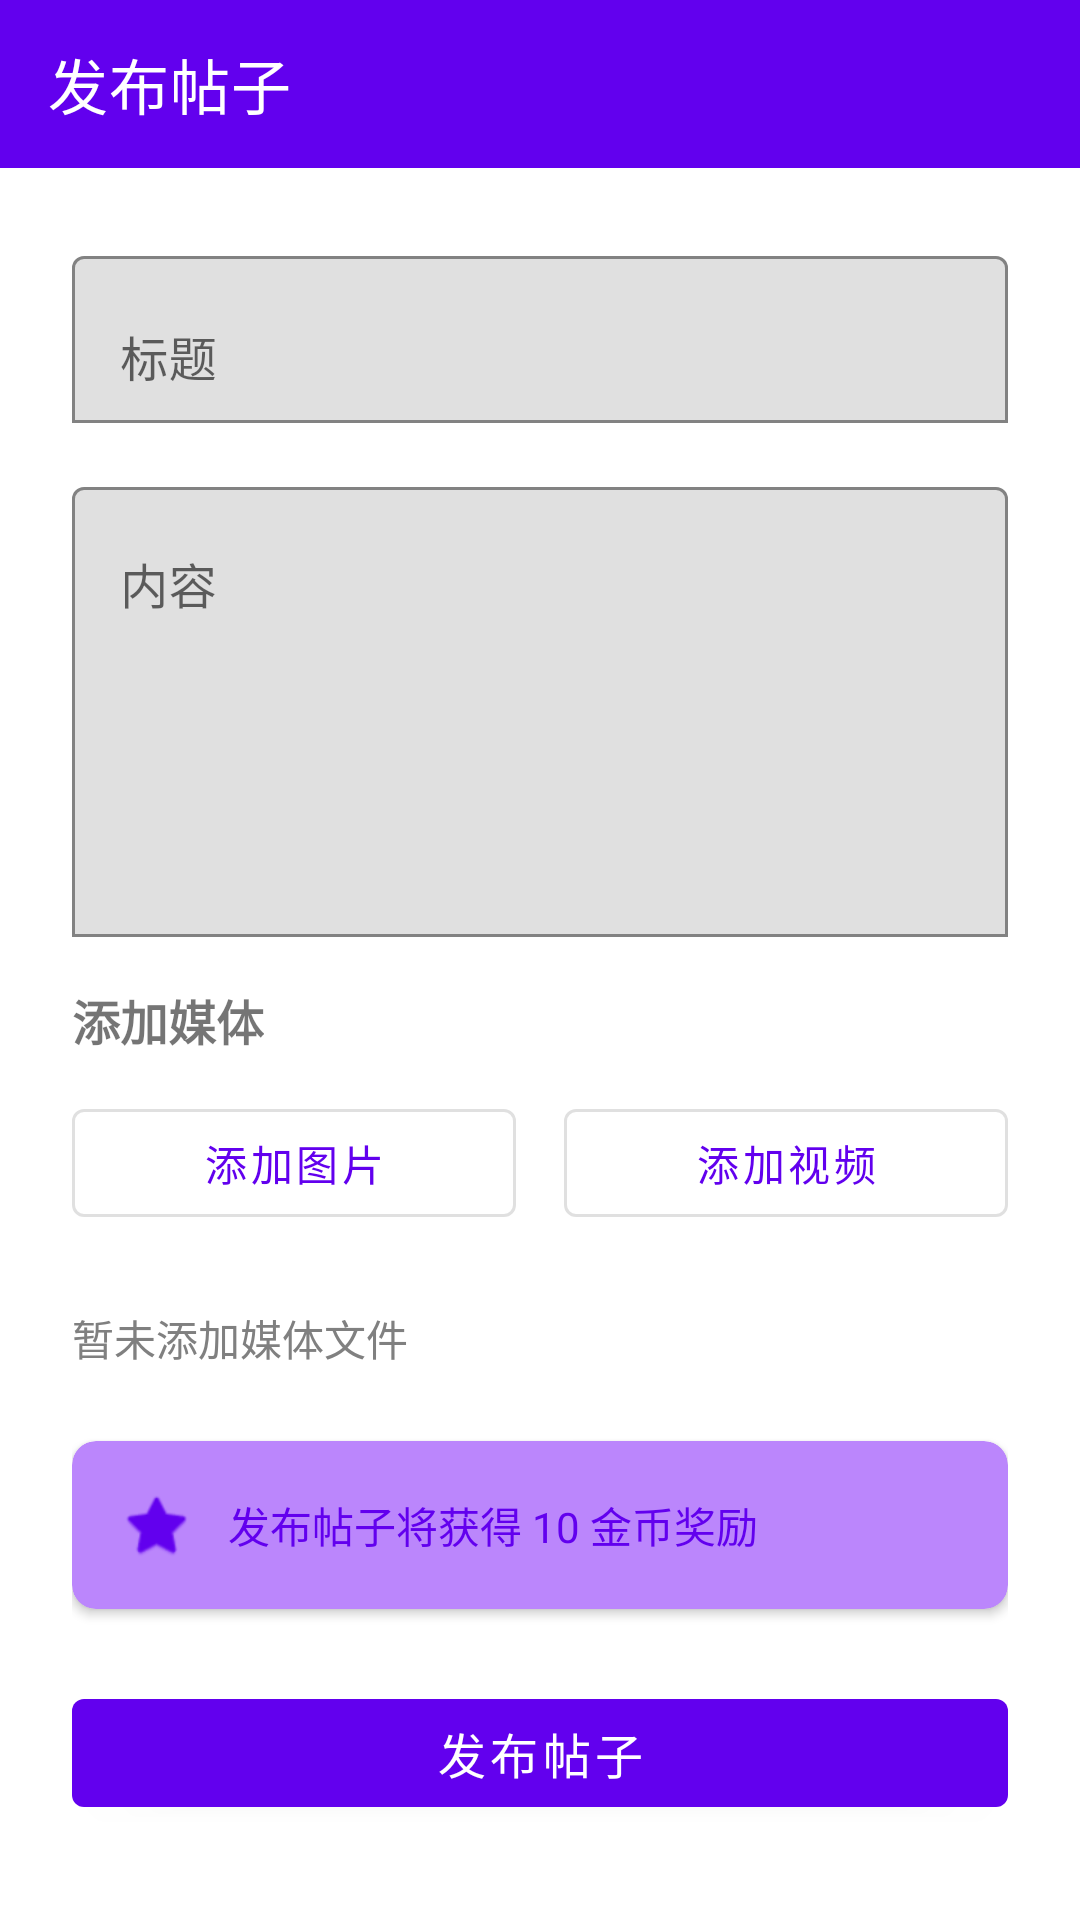

Point at icon controls on the screen. Image size 1080x1920, points as (x=x, y=y).
star: (x=156, y=1525)
